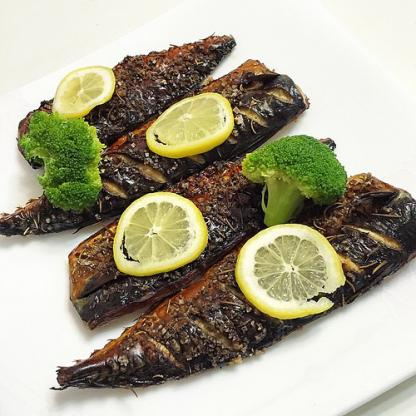Peixe: (2, 18, 416, 402)
